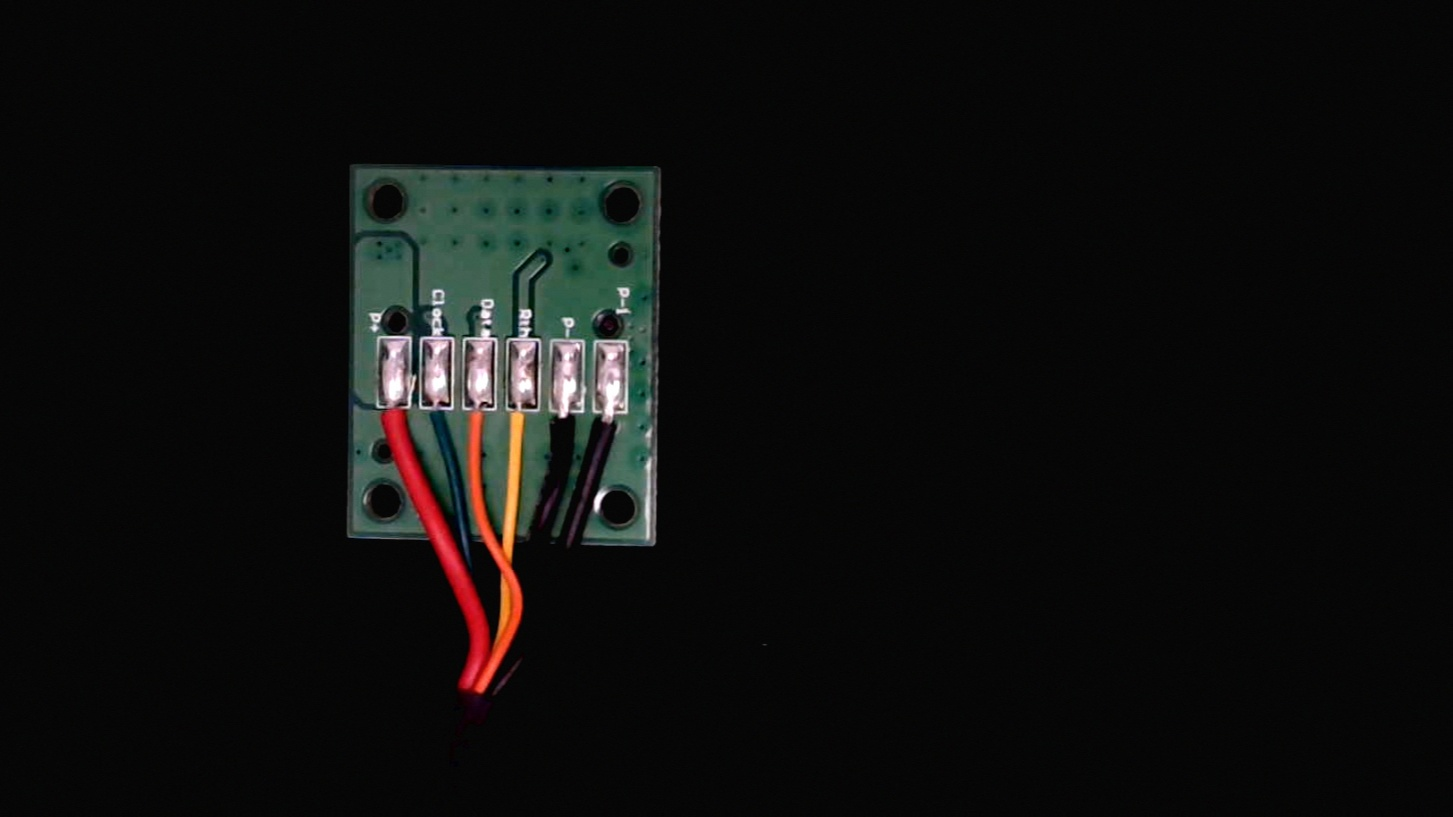Black: (550, 393, 589, 477)
Black1: (598, 391, 636, 468)
Green: (422, 389, 459, 461)
Orange: (461, 388, 500, 459)
Red: (376, 391, 415, 463)
Yellow: (507, 390, 547, 476)
